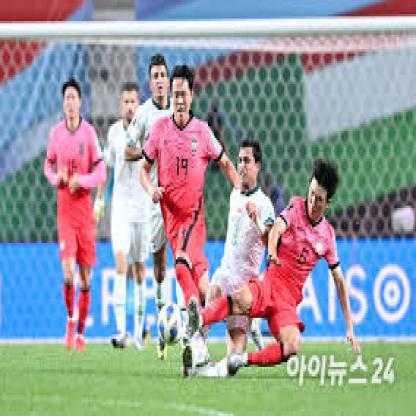Fall_Down: (182, 158, 361, 380)
